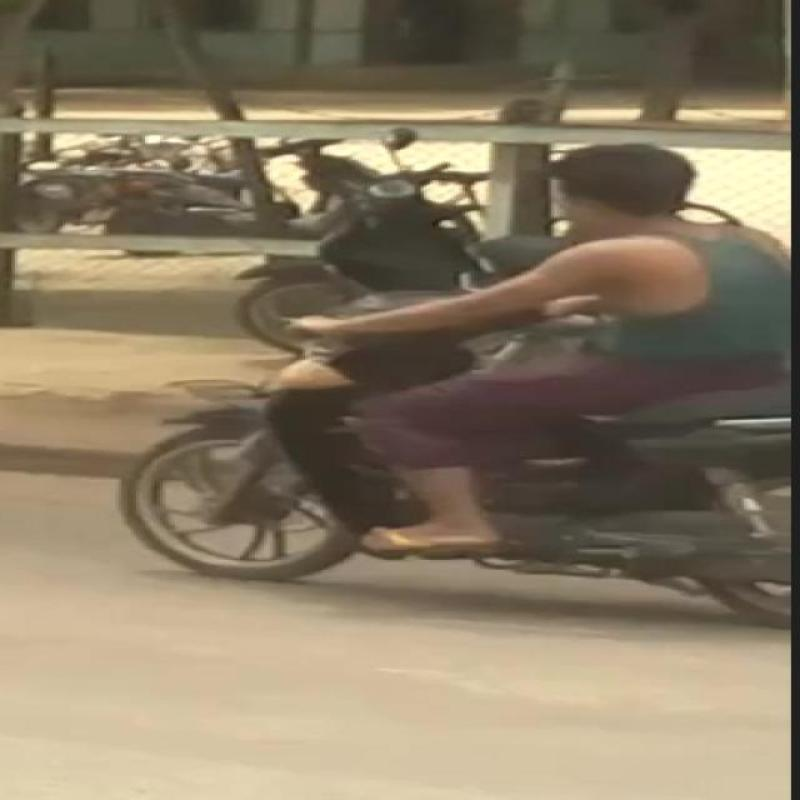nohelmet: (501, 139, 739, 233)
